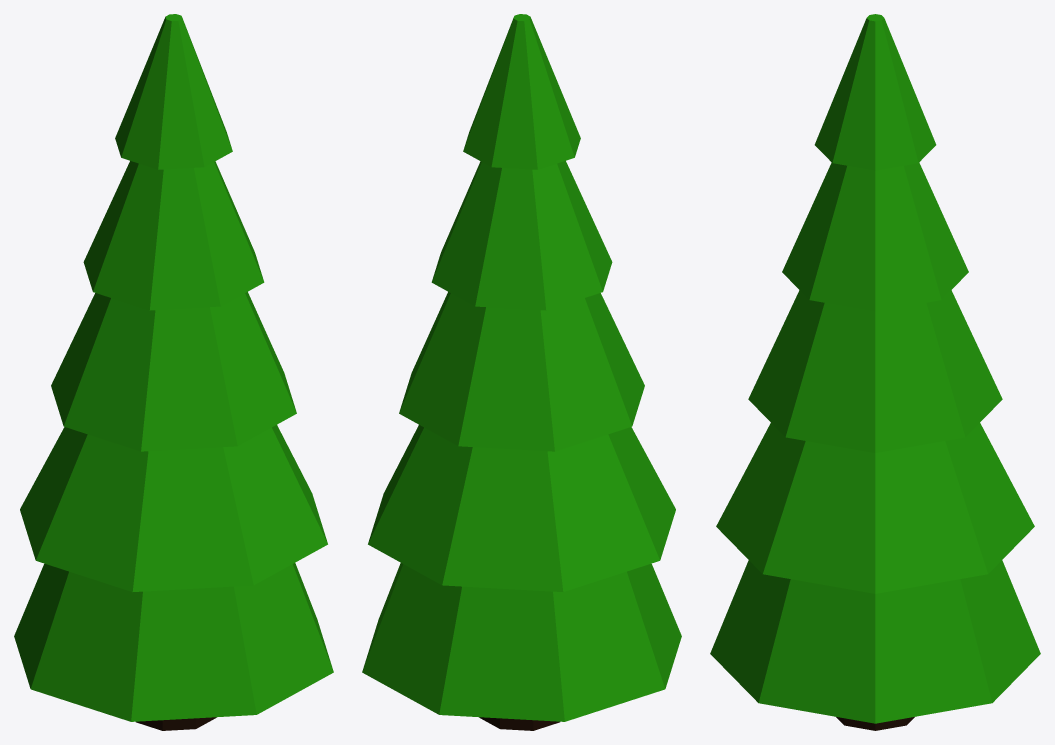
The model's file is Drzewo VII.FBX.
The picture shows the model from 3 angles, left to right: view 1: azimuth 30°, elevation 25°; view 2: azimuth 150°, elevation 25°; view 3: azimuth 270°, elevation 25°; orthographic projection.
Visible parts, largest first — view 1: pine_tree 1, Object001; view 2: pine_tree 1, Object001; view 3: pine_tree 1, Object001.
Part boxes in pixels (<box>): pine_tree 1: <box>14,14,333,721</box>; Object001: <box>136,717,216,730</box>; pine_tree 1: <box>362,14,681,721</box>; Object001: <box>479,717,559,730</box>; pine_tree 1: <box>710,14,1040,723</box>; Object001: <box>836,717,914,730</box>.
Size of the model in its own units: 20.73 by 48.03 by 20.73.
